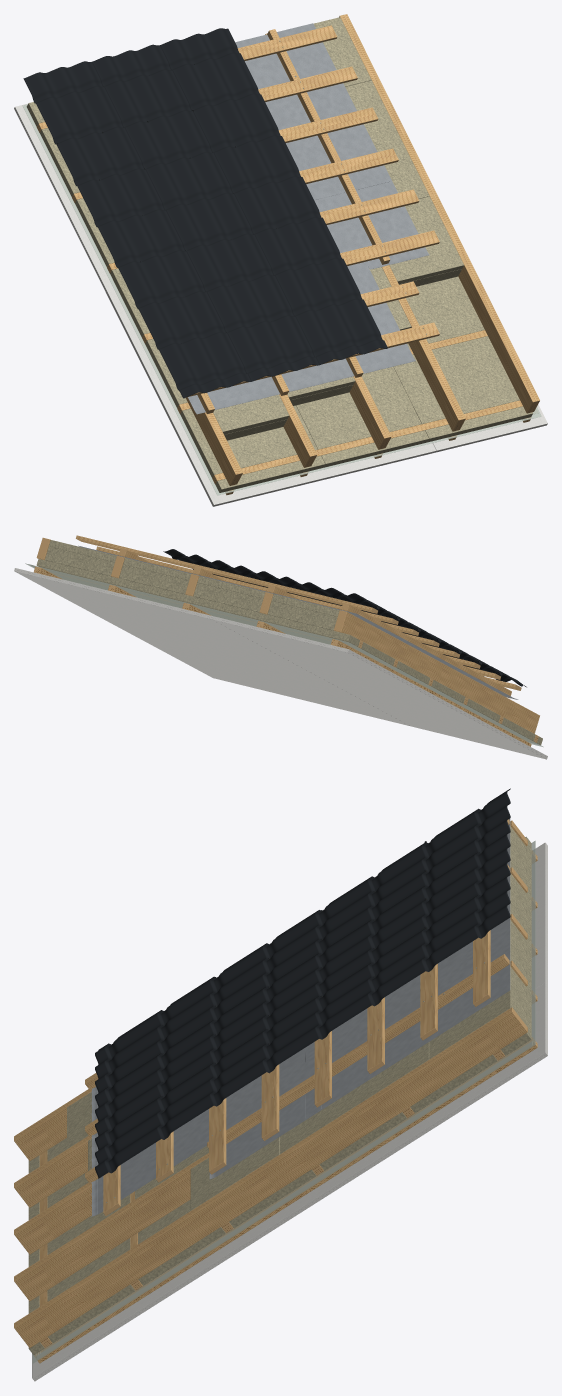
Rendered from roof-desktop-06c1caf979.glb.
3 renders of one model, top to bottom at view 1: azimuth 30°, elevation 25°; view 2: azimuth 150°, elevation 25°; view 3: azimuth 270°, elevation 25°, orthographic. The views are drawn at different scales.
Parts seen in each view (by area): view 1: Металлочерепица · профилирован.001, Металлочерепица · профилированны, Металлочерепица · профилирован, Ветрозащита · основное паропрониц, Внутренняя обшивка · слой 2, лист 1, Минеральная вата · поперечный м.004, Стропильная нога 5 · сухая сосна, Минеральная вата · поперечный м.003, Минеральная вата · поперечный м.007, Минеральная вата · пролёт 4, слой.002, Минеральная вата · поперечный м.002, Минеральная вата · пролёт 4, слой 2, (+30 smaller); view 2: Внутренняя обшивка · слой 1, лист 2, Внутренняя обшивка · слой 1, лист 1, Стропильная нога 1 · сухая сосна, Пароизоляционное полотно, Металлочерепица · профилированны, Обрешётка 8 · 25 × 100 мм, Минеральная вата · поперечный м.017, Контрбрус 1 · 50 × 50 мм, Внутренняя обшивка · слой 2, лист 1, Минеральная вата · поперечный м.018, Минеральная вата · поперечный м.019, Ветрозащита · основное паропрониц (+17 smaller); view 3: Металлочерепица · профилирован.001, Металлочерепица · профилированны, Металлочерепица · профилирован, Стропильная нога 5 · сухая сосна, Ветрозащита · основное паропрониц, Внутренняя обшивка · слой 2, лист 2, Стропильная нога 4 · сухая сосна, Сервисная обрешётка 5 · 50 × 50 мм, Пароизоляционное полотно, Контрбрус 4 · 50 × 50 мм, Минеральная вата · пролёт 4, слой.002, Стропильная нога 3 · сухая сосна (+22 smaller).
Boxes of the visible parts, <box> form: Металлочерепица · профилирован.001: <box>160,28,387,364</box>; Металлочерепица · профилированны: <box>23,61,251,397</box>; Металлочерепица · профилирован: <box>92,44,319,381</box>; Ветрозащита · основное паропрониц: <box>187,23,427,410</box>; Внутренняя обшивка · слой 2, лист 1: <box>14,103,436,505</box>; Минеральная вата · поперечный м.004: <box>393,336,519,424</box>; Стропильная нога 5 · сухая сосна: <box>339,14,539,413</box>; Минеральная вата · поперечный м.003: <box>296,367,421,449</box>; Минеральная вата · поперечный м.007: <box>406,276,484,348</box>; Минеральная вата · пролёт 4, слой.002: <box>345,80,429,198</box>; Минеральная вата · поперечный м.002: <box>180,405,317,478</box>; Минеральная вата · пролёт 4, слой 2,: <box>389,196,463,284</box>; Внутренняя обшивка · слой 1, лист 2: <box>14,569,409,725</box>; Внутренняя обшивка · слой 1, лист 1: <box>212,618,547,759</box>; Стропильная нога 1 · сухая сосна: <box>333,610,539,733</box>; Пароизоляционное полотно: <box>25,563,543,747</box>; Металлочерепица · профилированны: <box>300,582,526,686</box>; Обрешётка 8 · 25 × 100 мм: <box>76,535,377,613</box>; Минеральная вата · поперечный м.017: <box>244,609,359,646</box>; Контрбрус 1 · 50 × 50 мм: <box>341,602,511,698</box>; Внутренняя обшивка · слой 2, лист 1: <box>126,595,547,757</box>; Минеральная вата · поперечный м.018: <box>140,584,251,620</box>; Минеральная вата · поперечный м.019: <box>36,559,146,594</box>; Ветрозащита · основное паропрониц: <box>78,545,515,699</box>; Металлочерепица · профилирован.001: <box>95,874,510,1178</box>; Металлочерепица · профилированны: <box>95,788,510,1092</box>; Металлочерепица · профилирован: <box>95,831,510,1135</box>; Стропильная нога 5 · сухая сосна: <box>14,1007,527,1347</box>; Ветрозащита · основное паропрониц: <box>98,818,510,1214</box>; Внутренняя обшивка · слой 2, лист 2: <box>32,982,546,1379</box>; Стропильная нога 4 · сухая сосна: <box>14,961,527,1301</box>; Сервисная обрешётка 5 · 50 × 50 мм: <box>34,1037,537,1363</box>; Пароизоляционное полотно: <box>32,840,535,1363</box>; Контрбрус 4 · 50 × 50 мм: <box>207,954,509,1148</box>; Минеральная вата · пролёт 4, слой.002: <box>280,1042,429,1154</box>; Стропильная нога 3 · сухая сосна: <box>14,914,527,1254</box>.
Bounding box in the file's own units: 2.74 × 2.3 × 2.9.
12 materials, 6 textured.
